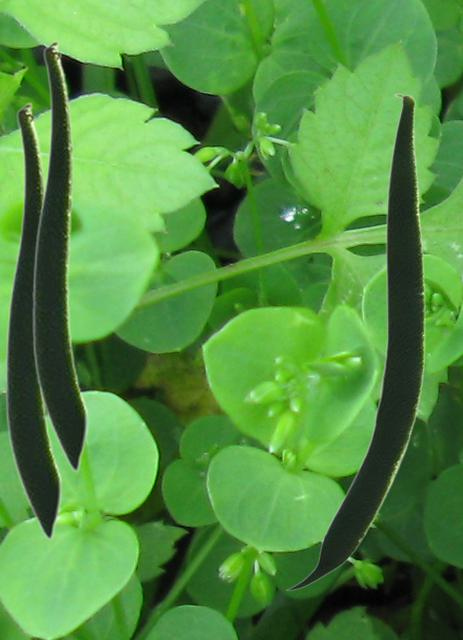french_bean: (285, 93, 424, 590), (4, 101, 62, 540), (31, 39, 88, 472)
